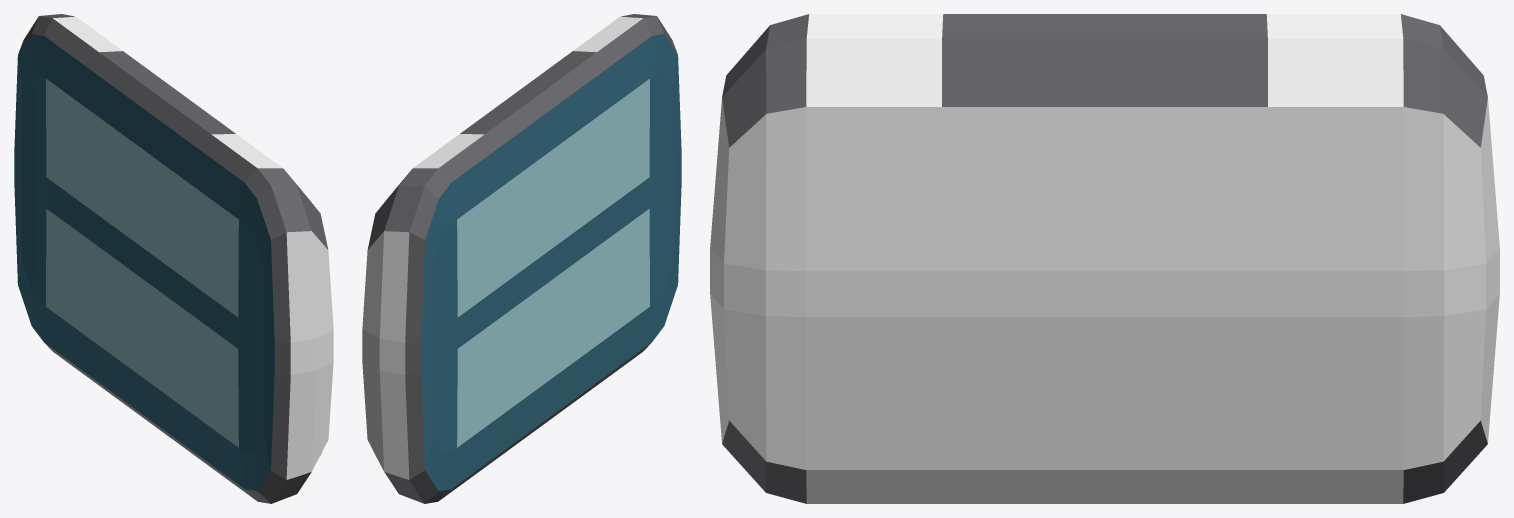
Rendered from Counting Panel.fbx.
The picture shows the model from 3 angles, left to right: view 1: azimuth 30°, elevation 25°; view 2: azimuth 150°, elevation 25°; view 3: azimuth 270°, elevation 25°; orthographic projection. The views are drawn at different scales.
Parts seen in each view (by area): view 1: Counting Panel; view 2: Counting Panel; view 3: Counting Panel.
Boxes of the visible parts, x1,y1,x2,y2 form: Counting Panel: [14, 14, 333, 503]; Counting Panel: [362, 14, 681, 503]; Counting Panel: [710, 14, 1499, 503].
Size of the model in its own units: 11.35 by 51.75 by 77.14.
